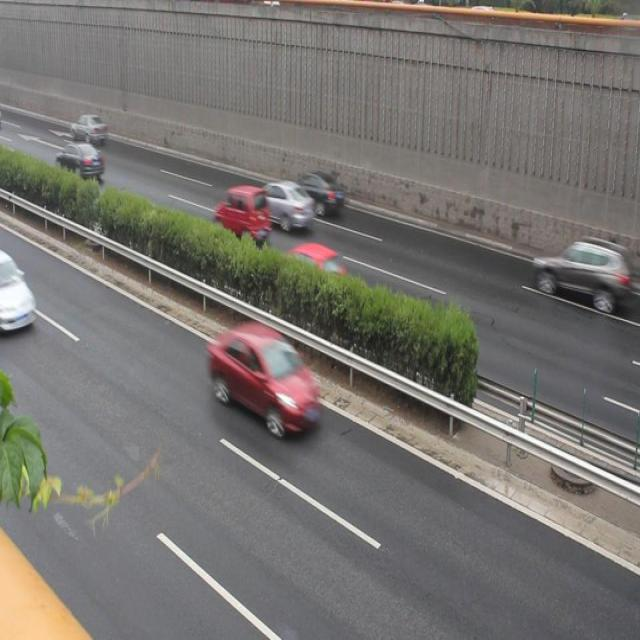car: (209, 323, 318, 436), (258, 242, 349, 312), (532, 236, 620, 308), (251, 178, 313, 232), (212, 185, 268, 242), (285, 173, 344, 222), (54, 142, 104, 183), (70, 114, 108, 146)
